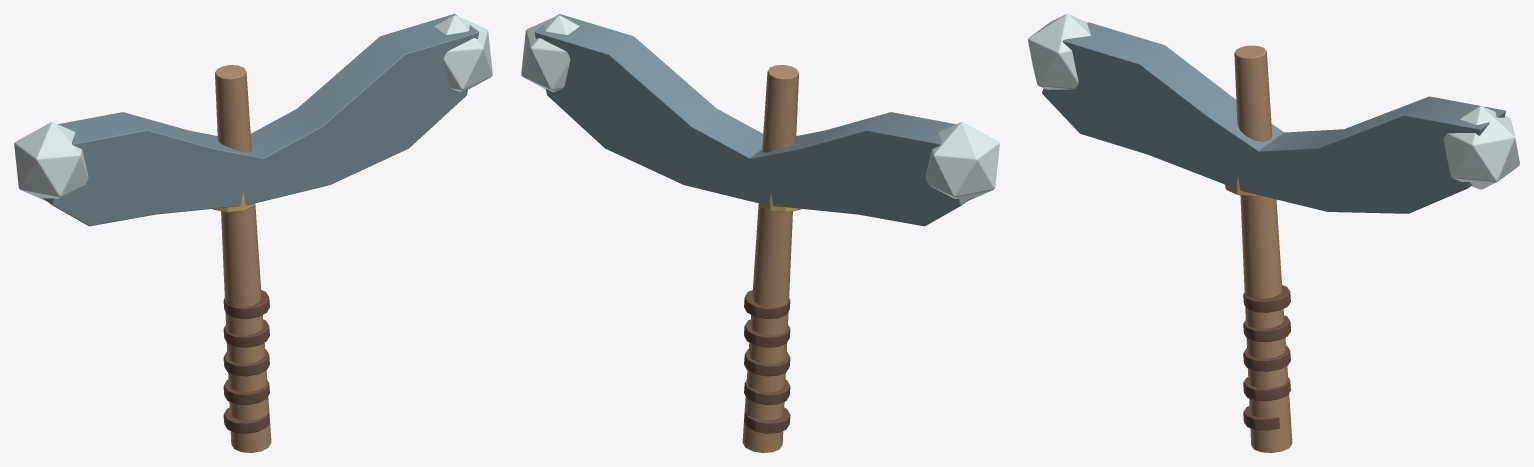
File: tool_pickaxe.glb
The picture shows the model from 3 angles, left to right: view 1: azimuth 30°, elevation 25°; view 2: azimuth 150°, elevation 25°; view 3: azimuth 330°, elevation 25°; orthographic projection. The views are drawn at different scales.
Parts seen in each view (by area): view 1: Ash handle.002; view 2: Ash handle.002; view 3: Ash handle.002.
Boxes of the visible parts, left/top/right/bottom form: Ash handle.002: left=14, top=14, right=492, bottom=452; Ash handle.002: left=521, top=14, right=999, bottom=452; Ash handle.002: left=1028, top=14, right=1519, bottom=452.
Size of the model in its own units: 1.13 by 0.8756 by 0.1522.
